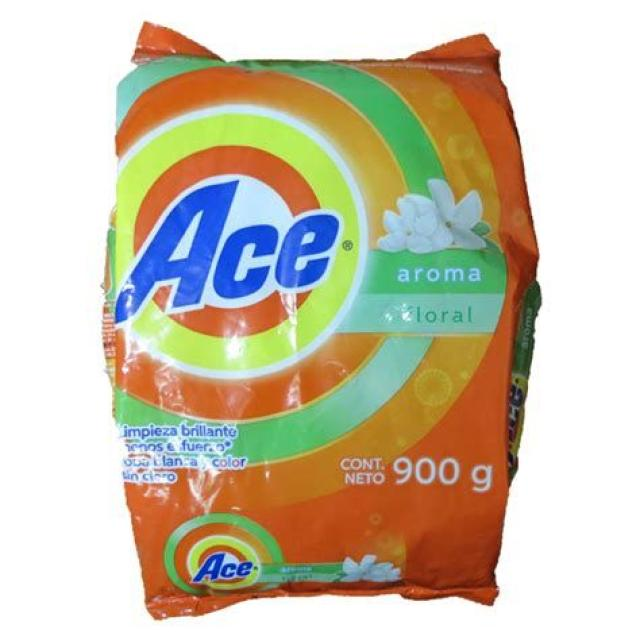KemasanPlastik: (98, 19, 542, 620)
